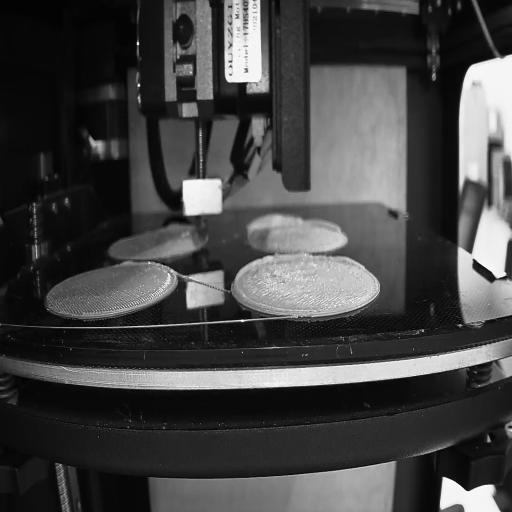over_extrusion: (234, 254, 312, 317), (246, 210, 305, 236), (308, 215, 342, 237), (331, 254, 368, 272), (161, 222, 192, 234), (116, 259, 138, 267)
